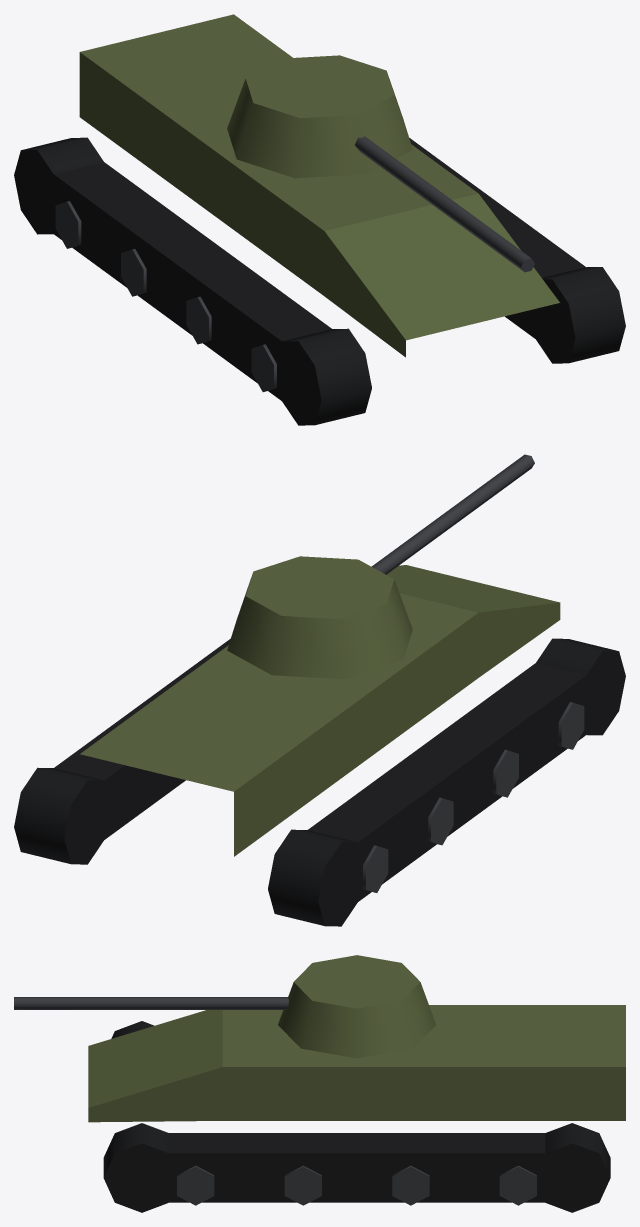
Rendered from veh_ground_tank_light_a06.glb.
3 renders of one model, top to bottom at view 1: azimuth 30°, elevation 25°; view 2: azimuth 150°, elevation 25°; view 3: azimuth 270°, elevation 25°, orthographic. The views are drawn at different scales.
Parts seen in each view (by area): view 1: body, track_r, turret, track_l; view 2: body, track_r, turret, track_l; view 3: body, track_l, turret.
Boxes of the visible parts, left/top/right/bottom form: body: left=79, top=14, right=559, bottom=357; track_r: left=14, top=137, right=371, bottom=425; turret: left=227, top=55, right=534, bottom=272; track_l: left=409, top=138, right=625, bottom=363; body: left=80, top=565, right=560, bottom=856; track_r: left=268, top=638, right=625, bottom=926; turret: left=227, top=454, right=534, bottom=679; track_l: left=14, top=638, right=230, bottom=864; body: left=88, top=1005, right=625, bottom=1122; track_l: left=103, top=1123, right=610, bottom=1212; turret: left=14, top=955, right=436, bottom=1058.
Size of what is drawn, in the model's own units: 3.16 by 2.01 by 6.56.
